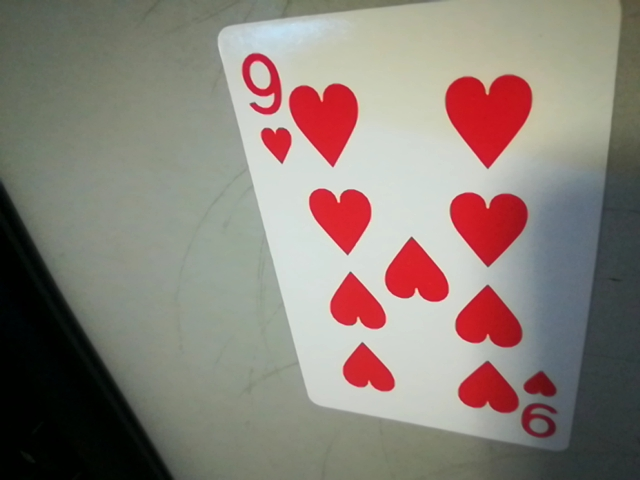hx 9: (225, 46, 294, 171), (513, 370, 572, 445)
